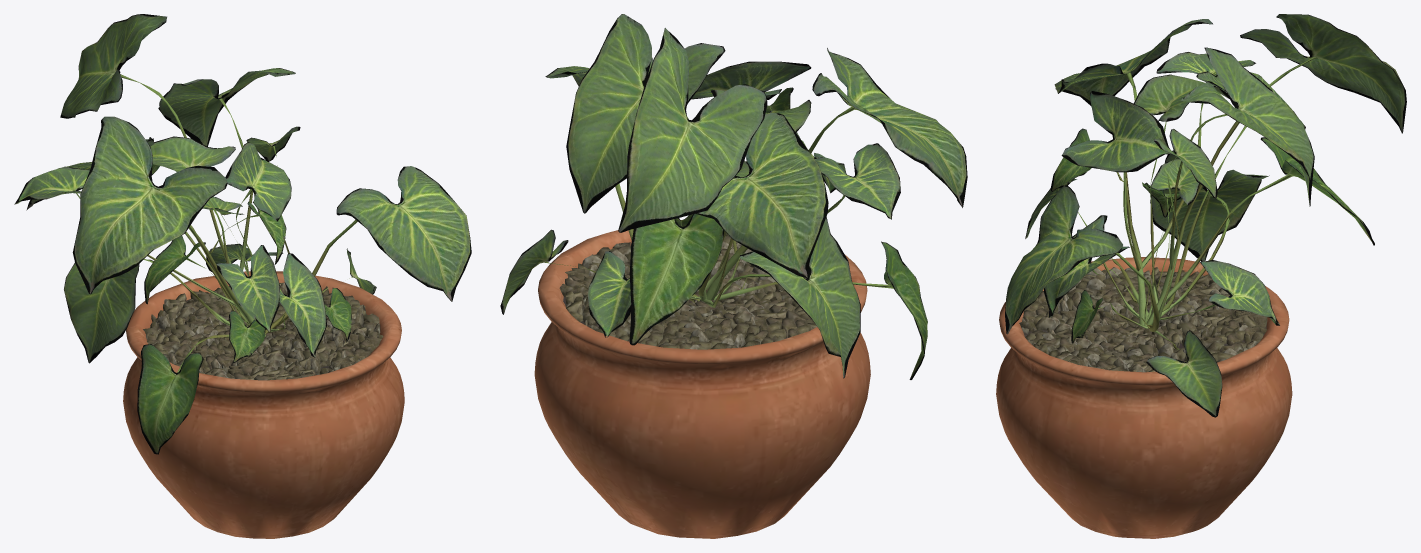
Rendered from potted_plant_02.glb.
3 views of the same model, side by side, from view 1: azimuth 30°, elevation 25°; view 2: azimuth 150°, elevation 25°; view 3: azimuth 270°, elevation 25° (orthographic). The views are drawn at different scales.
Parts seen in each view (by area): view 1: potted_plant_02_leaves, potted_plant_02_pot; view 2: potted_plant_02_leaves, potted_plant_02_pot; view 3: potted_plant_02_pot, potted_plant_02_leaves.
Part boxes in pixels (bbox=[...]): potted_plant_02_leaves: bbox=[14, 14, 471, 454]; potted_plant_02_pot: bbox=[123, 271, 404, 538]; potted_plant_02_leaves: bbox=[500, 14, 967, 379]; potted_plant_02_pot: bbox=[534, 220, 870, 538]; potted_plant_02_pot: bbox=[996, 257, 1292, 538]; potted_plant_02_leaves: bbox=[1005, 14, 1406, 417].
Bounding box in the file's own units: 0.7012 × 0.8397 × 0.6574.
2 materials, 2 textured.
